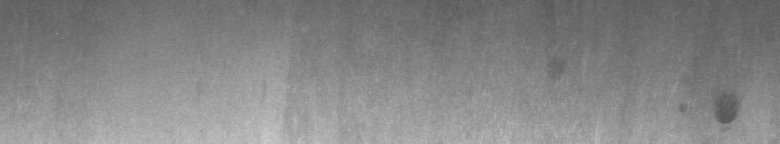fi: (679, 102, 740, 132)
